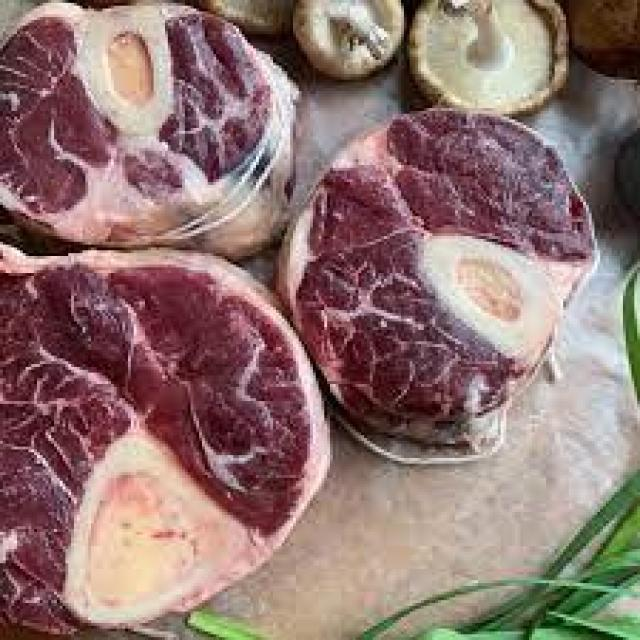beef: (0, 253, 304, 640)
